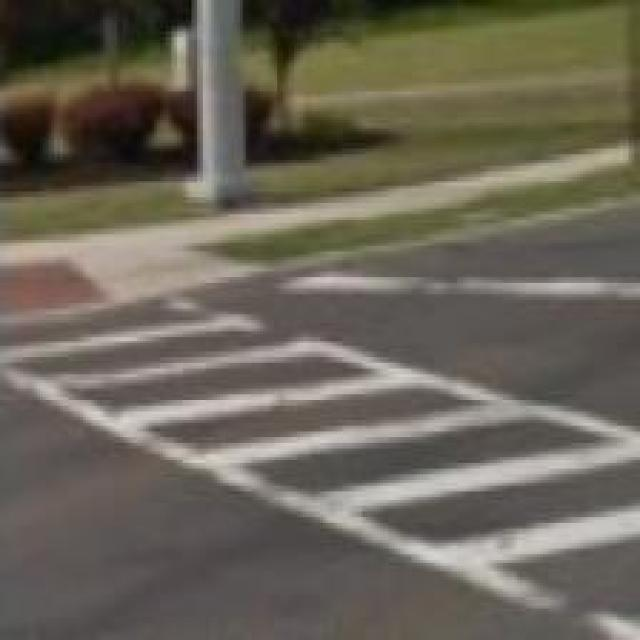walk-crossing: (5, 300, 640, 637)
